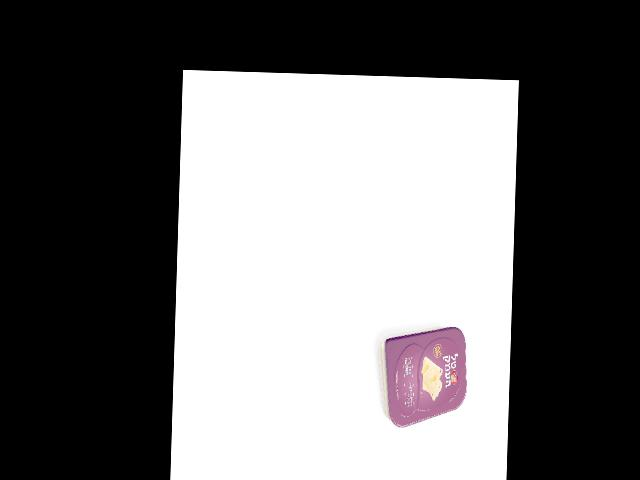cheese: (376, 324, 469, 429)
